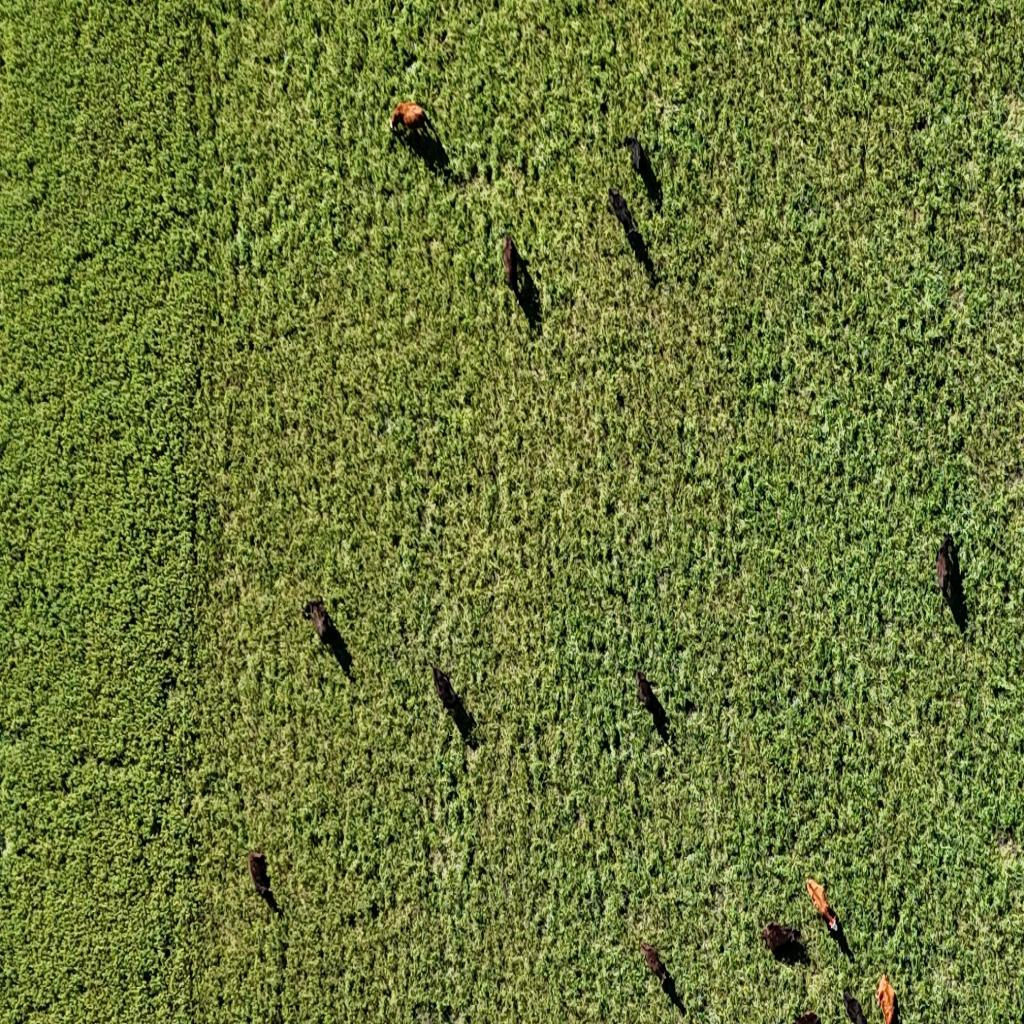cow: (806, 878, 841, 938), (936, 534, 962, 607), (430, 664, 457, 715), (391, 100, 427, 138), (761, 921, 800, 956), (873, 974, 900, 1024), (639, 940, 669, 984), (248, 850, 273, 902), (300, 598, 328, 642), (502, 234, 520, 295), (608, 186, 632, 230), (635, 670, 656, 714), (648, 703, 670, 745), (842, 990, 868, 1024), (626, 133, 645, 176)
